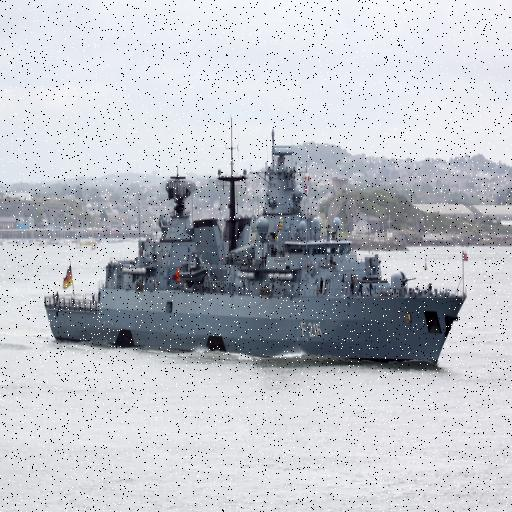Fragata: (42, 113, 473, 377)
